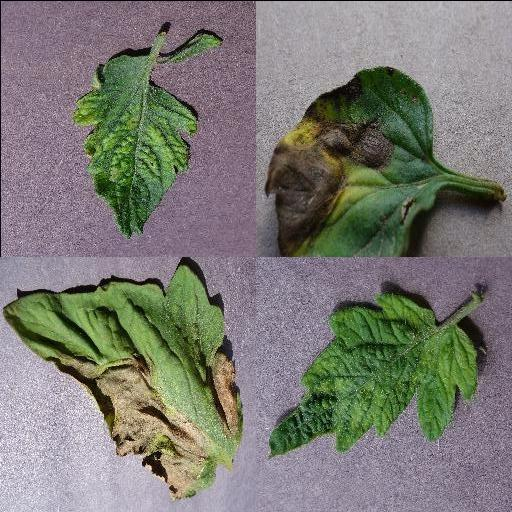Early Blight: (265, 65, 437, 253)
Late Blight: (1, 263, 243, 499)
Mosaic Virus: (265, 293, 479, 461), (67, 54, 201, 240), (163, 28, 227, 64)
